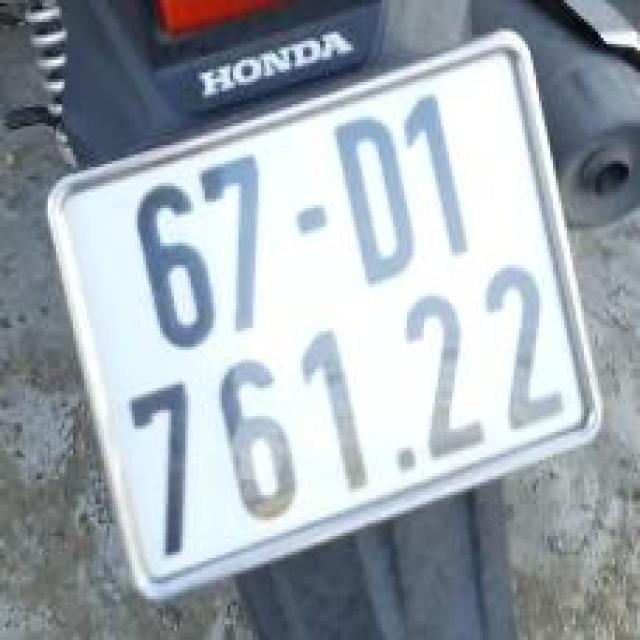1: (387, 83, 492, 273), (286, 315, 385, 512)
2: (466, 247, 576, 445), (385, 280, 497, 473)
6: (199, 345, 312, 536), (129, 176, 230, 362)
7: (115, 373, 212, 573), (186, 150, 279, 349)
D: (324, 106, 431, 300)
